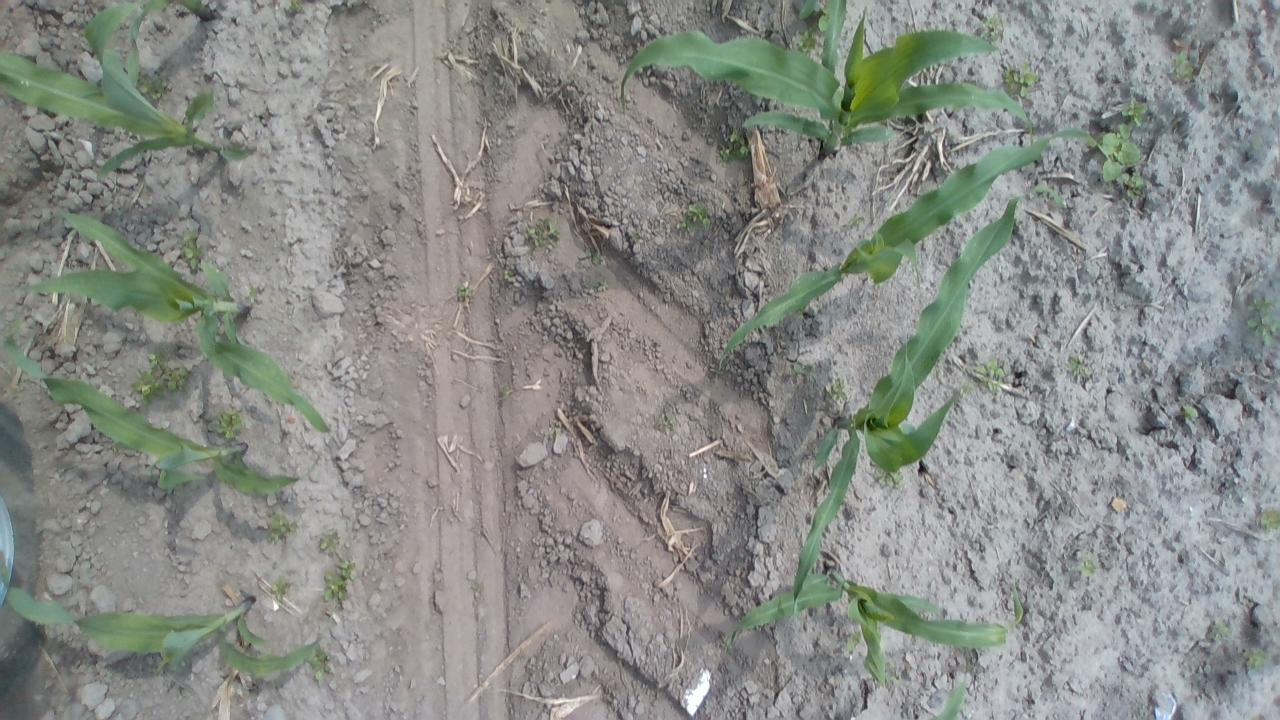Maize: (791, 182, 1075, 627), (714, 127, 1102, 371), (24, 199, 337, 440), (611, 0, 1037, 160), (0, 312, 330, 494), (0, 0, 256, 184), (0, 545, 328, 687), (722, 564, 1026, 686), (925, 670, 982, 720), (130, 0, 230, 26)
Weeds: (126, 341, 195, 407), (1094, 121, 1146, 200), (1242, 289, 1280, 351), (321, 554, 358, 612), (172, 225, 210, 274), (1001, 55, 1039, 101), (518, 214, 564, 250), (865, 455, 908, 493), (974, 352, 1010, 395), (306, 643, 338, 688), (714, 129, 752, 166), (132, 68, 170, 105), (680, 200, 714, 239), (213, 407, 246, 441), (1234, 641, 1268, 673), (1118, 94, 1150, 128), (654, 398, 682, 436), (1169, 49, 1197, 86), (1253, 502, 1280, 540), (820, 378, 856, 406), (268, 514, 300, 545), (1068, 552, 1103, 580), (794, 22, 821, 58), (266, 570, 296, 602), (314, 527, 346, 557), (1063, 351, 1096, 380), (975, 12, 1009, 40), (575, 247, 607, 273), (788, 352, 818, 379), (1178, 403, 1204, 429), (954, 380, 981, 402), (841, 208, 866, 231), (1207, 618, 1229, 644), (586, 274, 612, 296), (241, 284, 264, 308), (453, 281, 479, 302), (622, 222, 644, 246), (880, 660, 899, 687), (500, 266, 523, 288), (282, 0, 308, 17), (496, 380, 514, 401), (364, 301, 380, 320), (721, 636, 737, 653), (1251, 133, 1265, 152), (852, 632, 862, 652)
